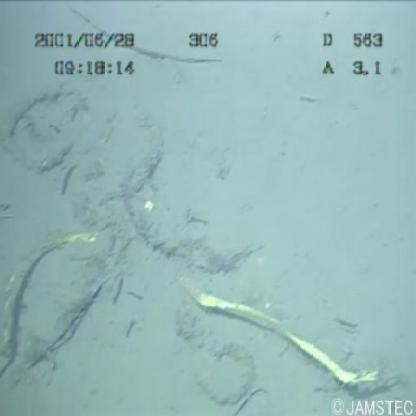Rác: (1, 64, 392, 404)
